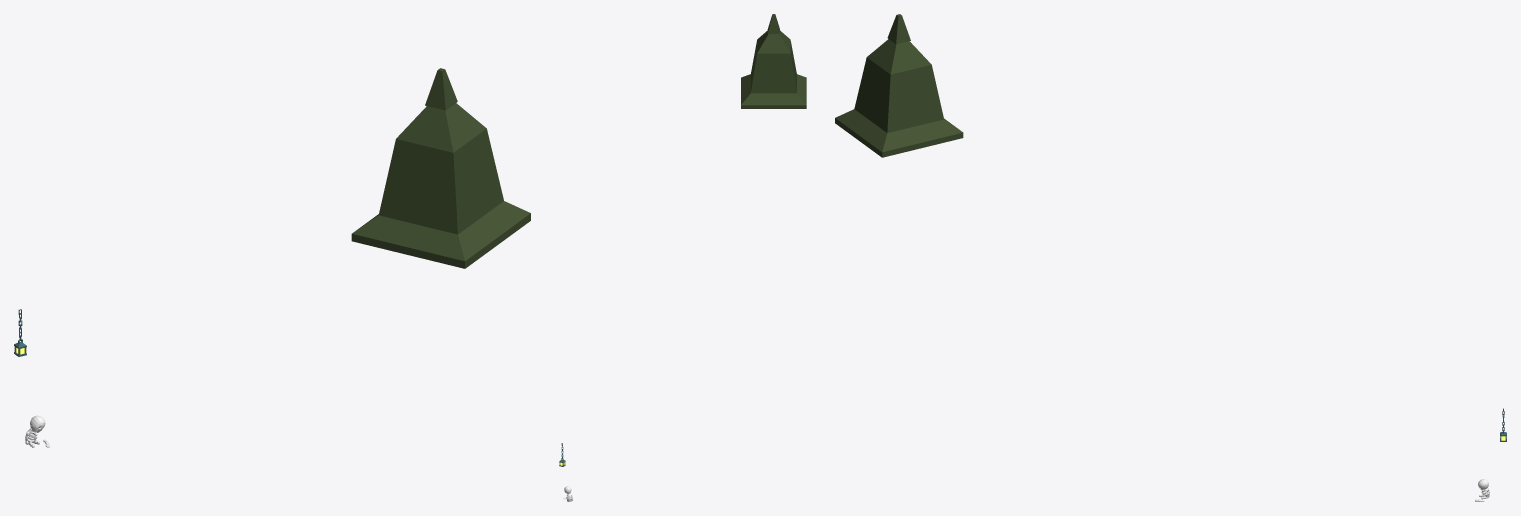
3 views of the same model, side by side, from view 1: azimuth 30°, elevation 25°; view 2: azimuth 150°, elevation 25°; view 3: azimuth 270°, elevation 25° (orthographic). The views are drawn at different scales.
Parts seen in each view (by area): view 1: Box969_roof1_0, Box15612_roof1_0; view 2: Box969_roof1_0; view 3: Box969_roof1_0.
Boxes of the visible parts, <box> form: Box969_roof1_0: <box>351,103,530,268</box>; Box15612_roof1_0: <box>425,68,457,110</box>; Box969_roof1_0: <box>741,30,806,108</box>; Box969_roof1_0: <box>835,39,963,157</box>.
Size of the model in its own units: 757 by 3140 by 3957.
